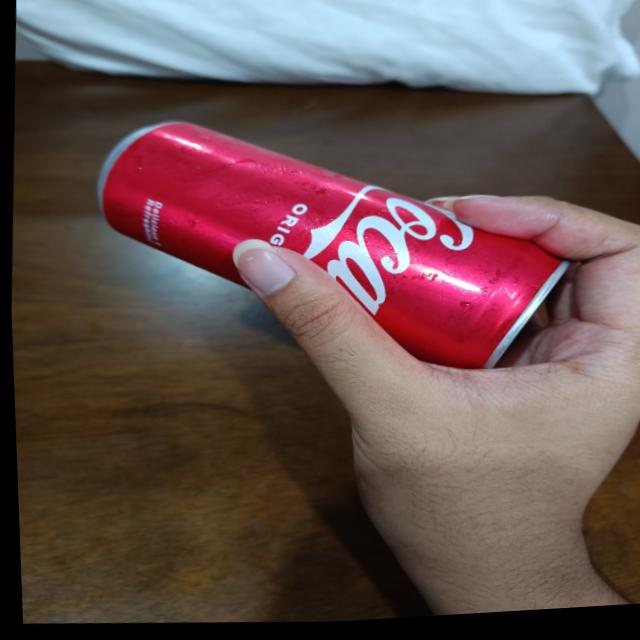coke: (87, 98, 579, 402)
